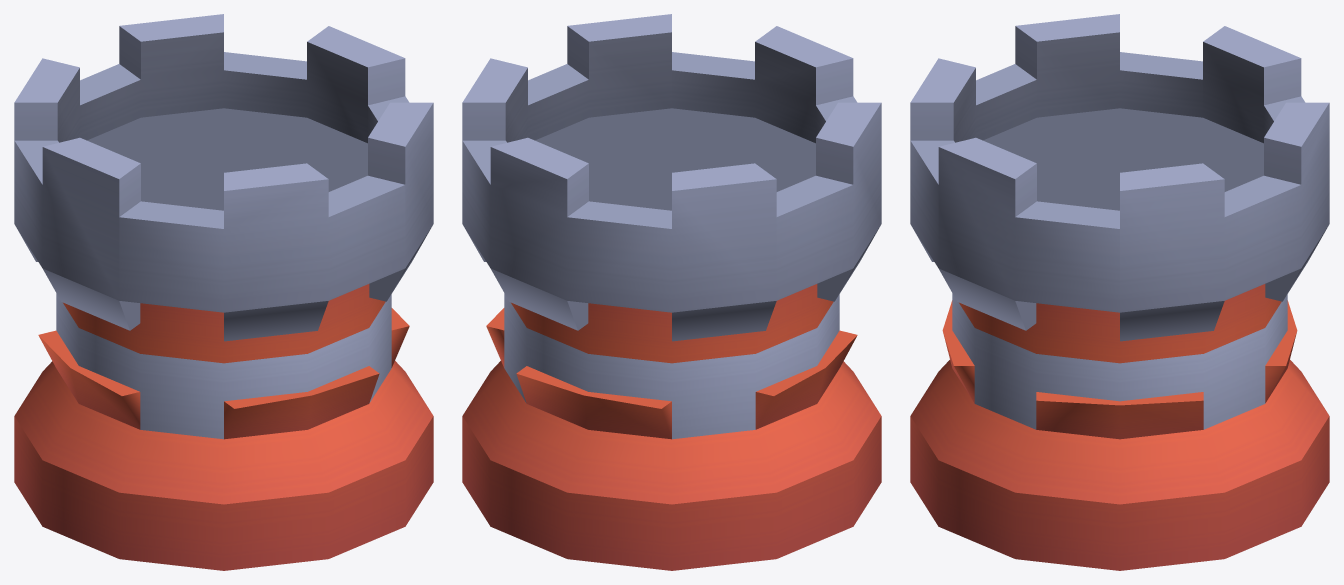
File: tower-round-build-c.fbx
3 renders of one model, left to right at view 1: azimuth 30°, elevation 25°; view 2: azimuth 150°, elevation 25°; view 3: azimuth 270°, elevation 25°, orthographic.
Parts seen in each view (by area): view 1: tower-round-build-c; view 2: tower-round-build-c; view 3: tower-round-build-c.
Boxes of the visible parts, x1,y1,x2,y2 form: tower-round-build-c: [14, 14, 433, 570]; tower-round-build-c: [462, 14, 881, 570]; tower-round-build-c: [910, 14, 1329, 570].
Size of the model in its own units: 100 by 100 by 100.
